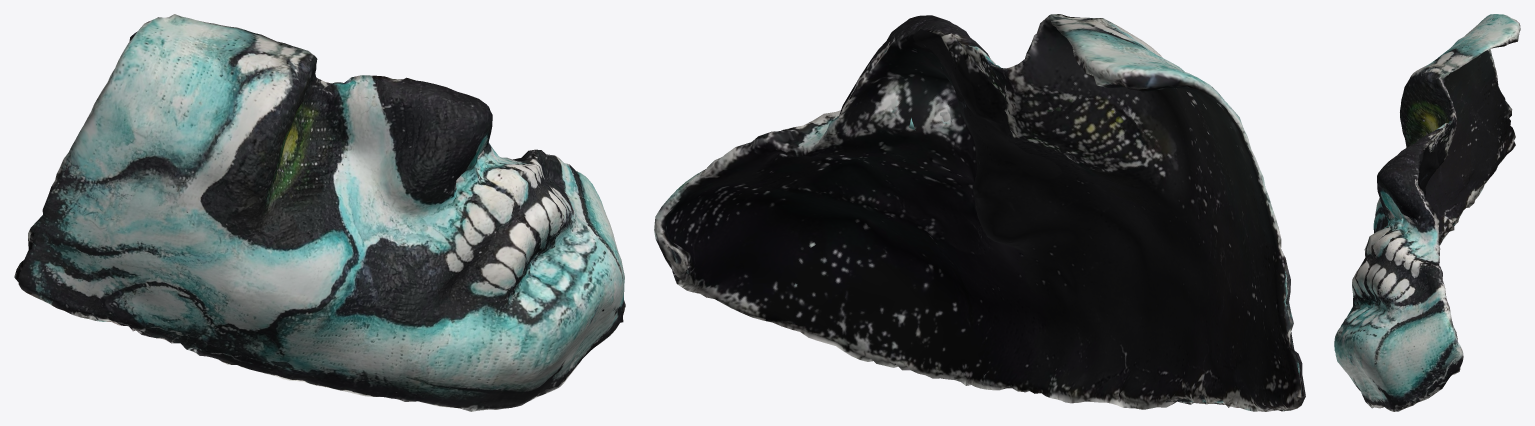
The model's file is caveira.glb.
3 renders of one model, left to right at view 1: azimuth 30°, elevation 25°; view 2: azimuth 150°, elevation 25°; view 3: azimuth 270°, elevation 25°, orthographic. The views are drawn at different scales.
Visible parts, largest first — view 1: low; view 2: low; view 3: low.
Boxes of the visible parts, x1,y1,x2,y2 form: low: (14,14,625,411); low: (654,14,1305,411); low: (1334,14,1520,411).
Size of the model in its own units: 0.7823 by 0.5184 by 0.3148.
Materials: 1 (1 with a texture image).
